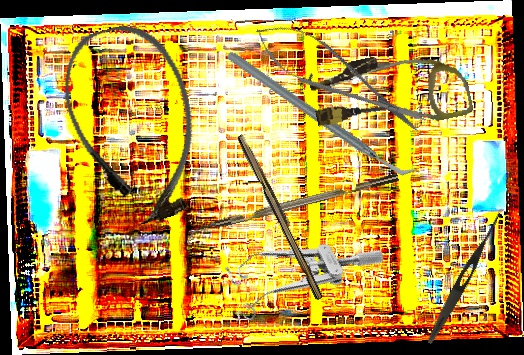Cannula: (50, 13, 217, 236), (306, 38, 475, 146)
Chopper: (224, 0, 420, 228), (183, 173, 402, 245)
Dressing Forceps: (423, 208, 506, 347)
Micro Scissor: (244, 9, 436, 147)
Scalpel Handle: (233, 132, 329, 301)
Speculum: (211, 199, 386, 336)
